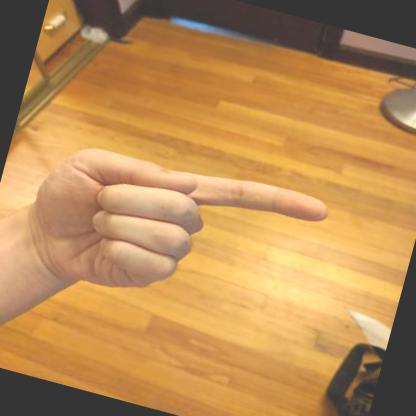G: (13, 148, 327, 287)
